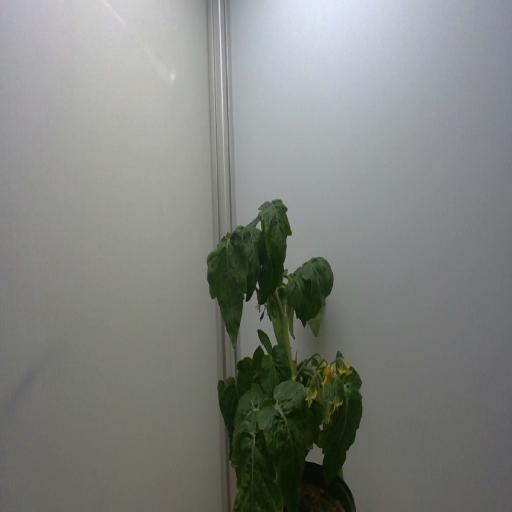Tomato-Leaves-Cupboard-: (258, 379, 310, 512), (205, 232, 249, 348), (318, 387, 366, 484), (237, 429, 285, 512), (230, 382, 267, 475), (257, 194, 291, 287), (238, 214, 265, 302), (298, 254, 338, 308), (285, 271, 315, 332), (254, 250, 280, 307), (217, 374, 239, 437), (306, 290, 328, 347), (261, 348, 292, 388), (230, 356, 257, 398), (338, 350, 363, 387), (284, 294, 298, 341), (255, 326, 274, 354), (251, 347, 264, 377)
